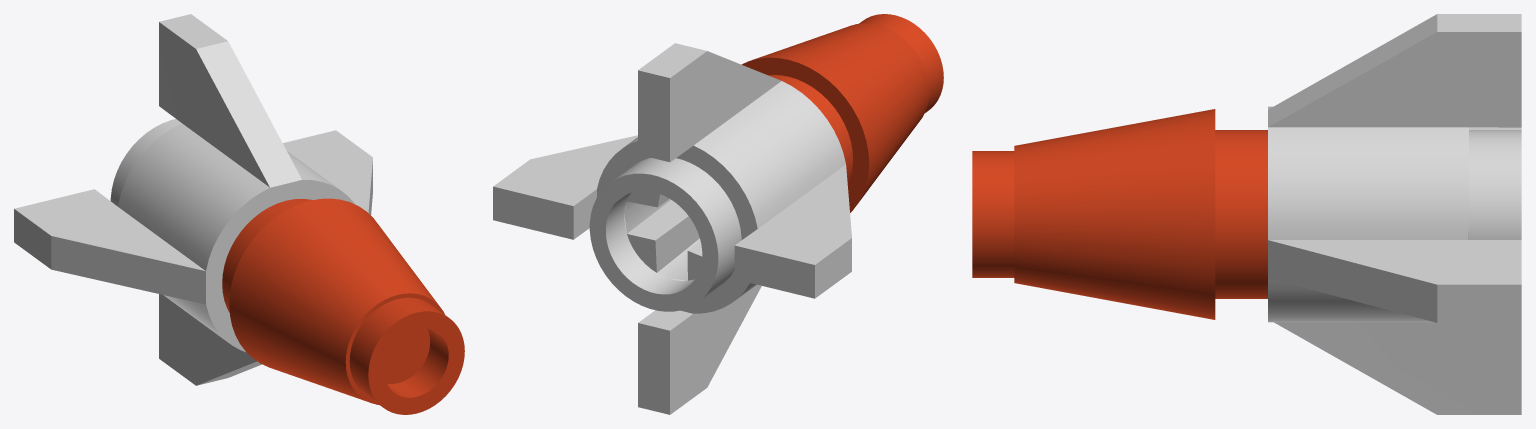
The model's file is Tiny Spaceship.fbx.
3 renders of one model, left to right at view 1: azimuth 30°, elevation 25°; view 2: azimuth 150°, elevation 25°; view 3: azimuth 270°, elevation 25°, orthographic. The views are drawn at different scales.
Parts seen in each view (by area): view 1: Tiny Ship; view 2: Tiny Ship; view 3: Tiny Ship.
Boxes of the visible parts, x1,y1,x2,y2 form: Tiny Ship: [14, 14, 464, 414]; Tiny Ship: [493, 14, 943, 414]; Tiny Ship: [972, 14, 1521, 414].
Bounding box in the file's own units: 160 × 160 × 208.
